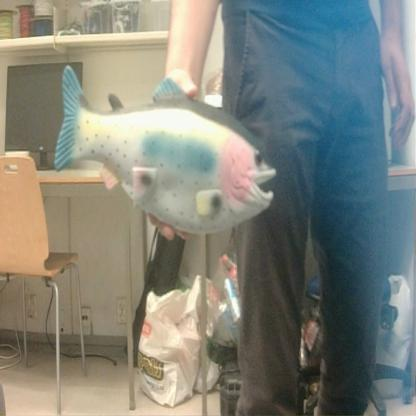rubberfish: (51, 62, 278, 240)
